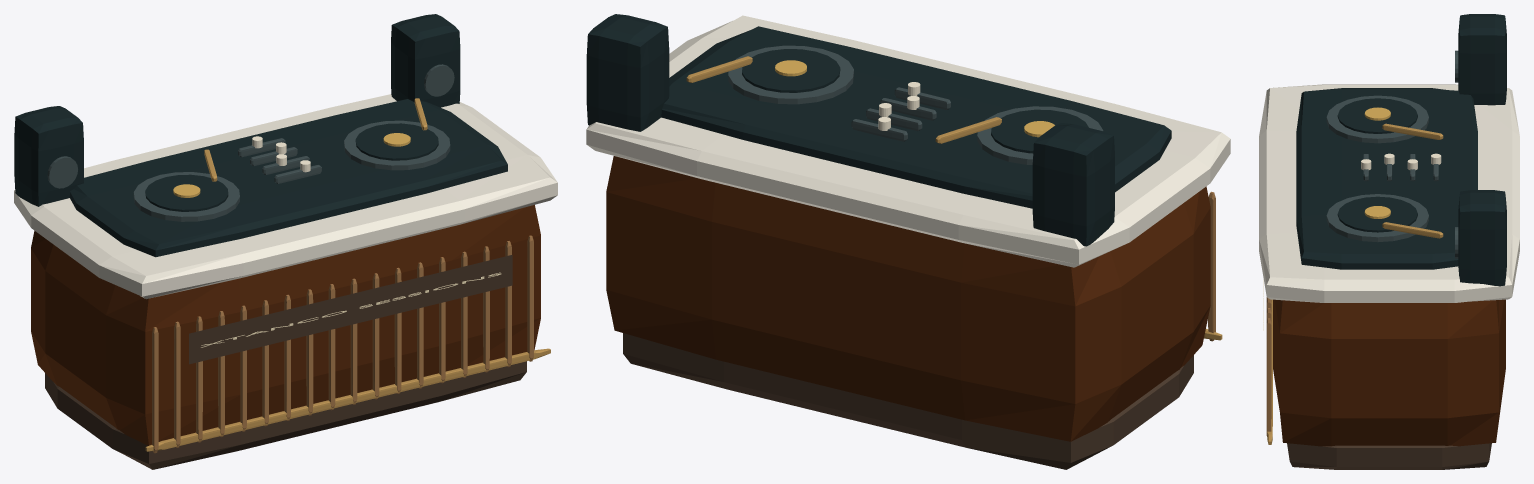
The model's file is best.glb.
The picture shows the model from 3 angles, left to right: view 1: azimuth 30°, elevation 25°; view 2: azimuth 150°, elevation 25°; view 3: azimuth 270°, elevation 25°; orthographic projection. The views are drawn at different scales.
Parts seen in each view (by area): view 1: Native component 1, Native component 29, Native component 2, Native component 11, Native component 7, Native component 0, Native component 32, Native component 10, Native component 4, Sign XTANCO SESSIONS; view 2: Native component 1, Native component 29, Native component 2, Native component 0, Native component 32, Native component 10, Native component 11, Native component 4, Native component 40; view 3: Native component 29, Native component 1, Native component 2, Native component 0, Native component 32, Native component 10, Native component 11, Native component 4, Native component 40.
Part boxes in pixels (x1,y1,x2,y2): Native component 1: [31, 205, 540, 445]; Native component 29: [14, 14, 507, 257]; Native component 2: [14, 94, 557, 299]; Native component 11: [152, 235, 533, 453]; Native component 7: [189, 255, 512, 364]; Native component 0: [45, 361, 526, 469]; Native component 32: [47, 64, 454, 221]; Native component 10: [145, 98, 550, 451]; Native component 4: [173, 133, 410, 197]; Sign XTANCO SESSIONS: [201, 272, 501, 347]; Native component 1: [606, 156, 1210, 441]; Native component 29: [586, 14, 1171, 246]; Native component 2: [586, 15, 1230, 267]; Native component 0: [623, 333, 1193, 469]; Native component 32: [728, 45, 1103, 164]; Native component 10: [686, 56, 1222, 340]; Native component 11: [1208, 191, 1215, 341]; Native component 4: [775, 60, 1054, 137]; Native component 40: [878, 82, 920, 130]; Native component 29: [1296, 14, 1506, 286]; Native component 1: [1273, 299, 1505, 446]; Native component 2: [1259, 84, 1519, 302]; Native component 0: [1287, 443, 1491, 469]; Native component 32: [1326, 50, 1458, 258]; Native component 10: [1267, 123, 1443, 444]; Native component 11: [1266, 297, 1271, 436]; Native component 4: [1364, 107, 1390, 218]; Native component 40: [1361, 153, 1441, 170].
Bounding box in the file's own units: 2.1 × 1.29 × 1.12.
